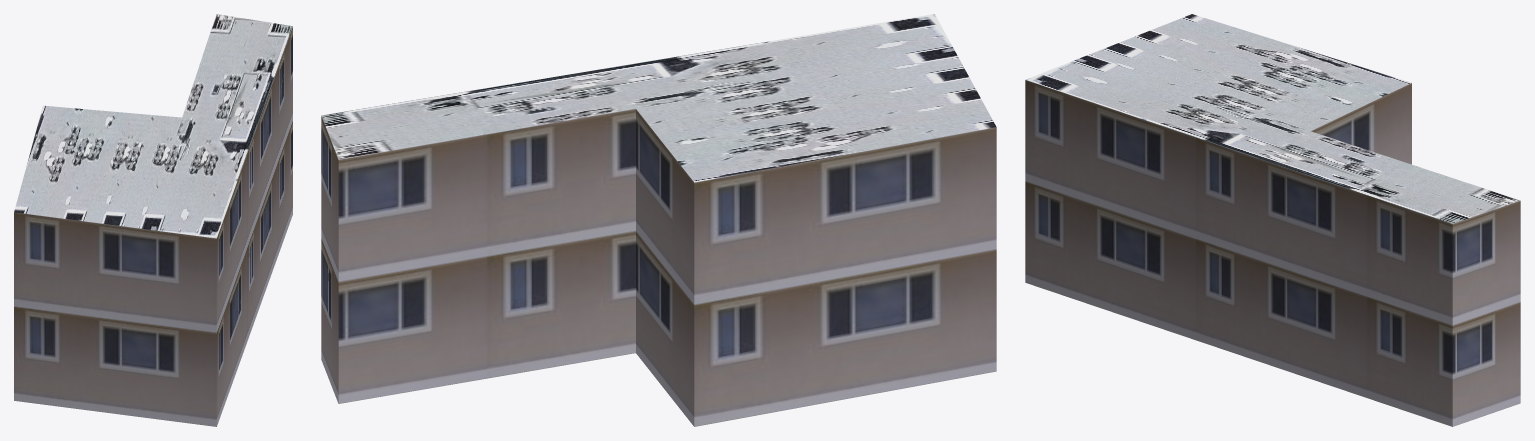
File: ResTex__3070.fbx
3 renders of one model, left to right at view 1: azimuth 30°, elevation 25°; view 2: azimuth 150°, elevation 25°; view 3: azimuth 270°, elevation 25°, orthographic. The views are drawn at different scales.
Visible parts, largest first — view 1: CityEngineMaterial_21_m, CityEngineMaterial_8_m; view 2: CityEngineMaterial_21_m, CityEngineMaterial_8_m; view 3: CityEngineMaterial_21_m, CityEngineMaterial_8_m.
Boxes of the visible parts, x1,y1,x2,y2 form: CityEngineMaterial_21_m: (14,26,292,426); CityEngineMaterial_8_m: (14,14,292,238); CityEngineMaterial_21_m: (321,109,996,426); CityEngineMaterial_8_m: (321,14,996,182); CityEngineMaterial_21_m: (1025,80,1520,426); CityEngineMaterial_8_m: (1025,14,1520,223).
Bounding box in the file's own units: 13.32 × 6 × 13.28.
Materials: 2 (2 with a texture image).
